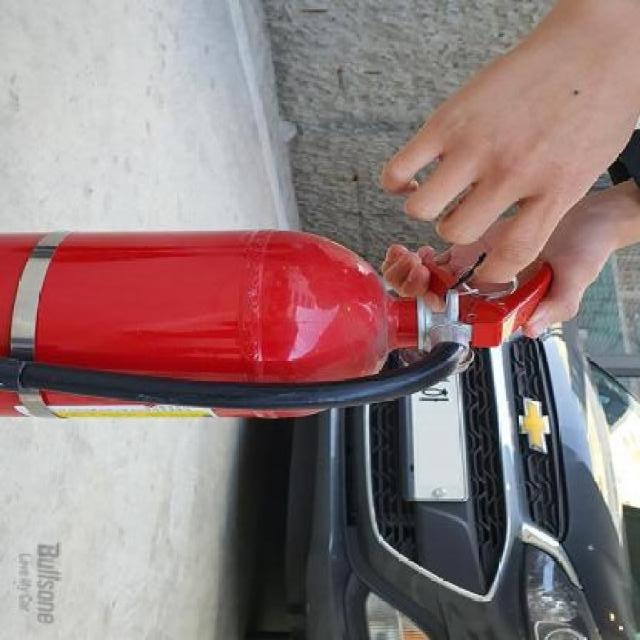fire extinguisher: (0, 228, 553, 419)
